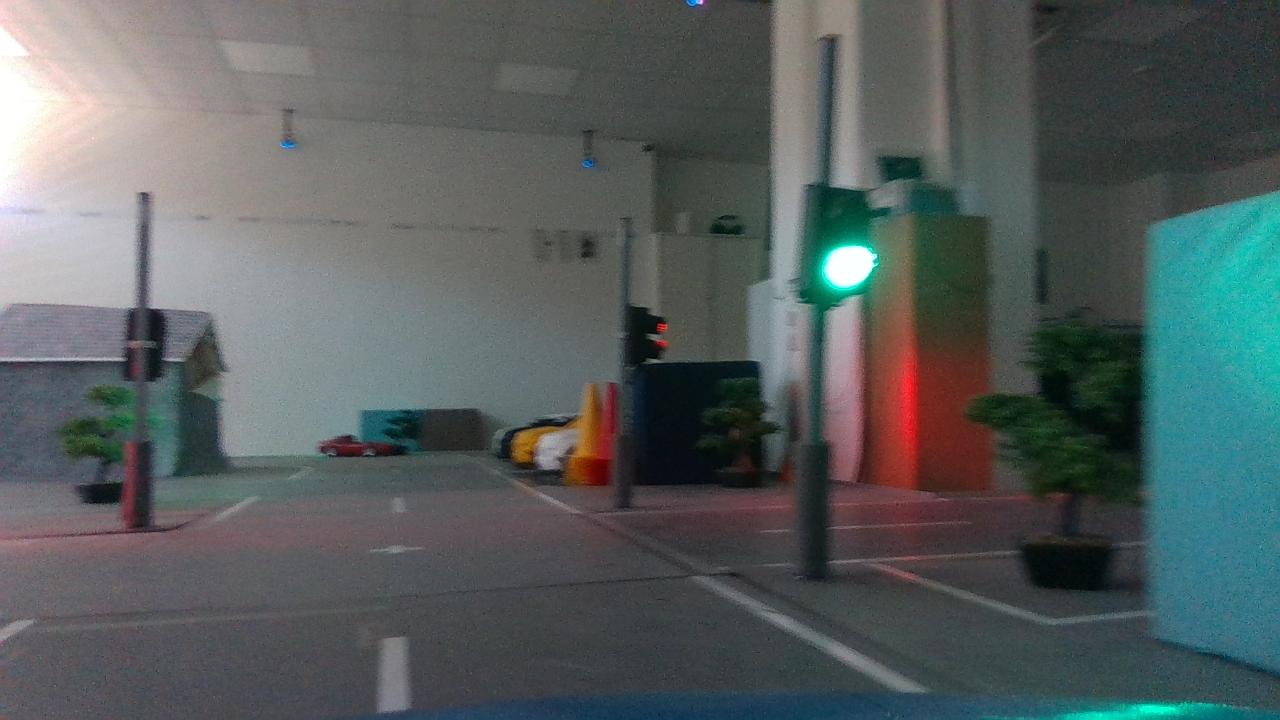traffic_light_green: (789, 170, 896, 324)
